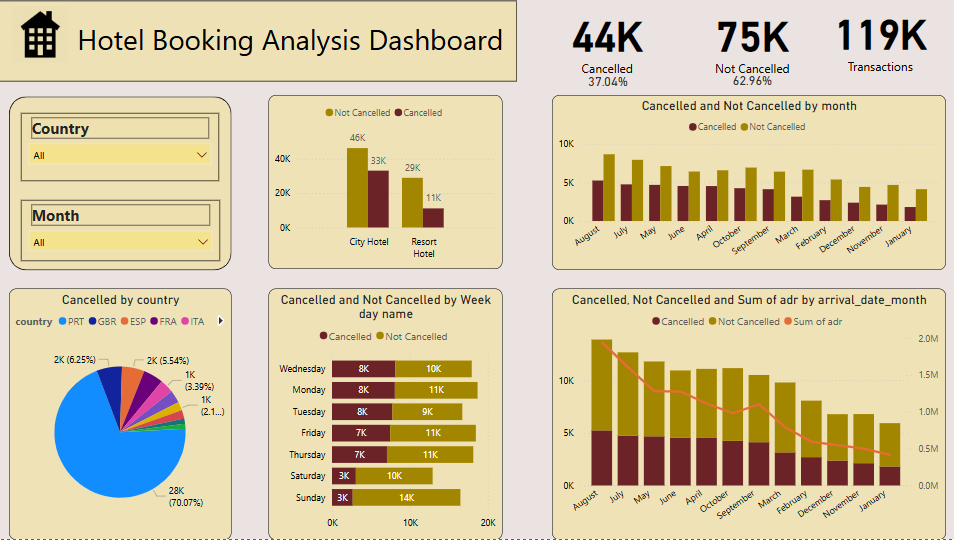

What the dashboard file says about the page in this screenshot:
{"tool":"powerbi","page":{"name":"Page 1","canvas":[1280,720],"ordinal":0},"visuals":[{"type":"shape","box":[0,1.6,693.5,108.1],"z":0},{"type":"textbox","box":[102,22,592,60],"z":1000},{"type":"image","box":[14.5,0,87.1,95.2],"z":2000},{"type":"shape","box":[16.7,130,296.7,231.7],"z":3000},{"type":"slicer","fields":{"Values":["hotel_booking.country"]},"box":[31.8,152.7,264,90.7],"z":4000},{"type":"slicer","fields":{"Values":["hotel_booking.arrival_date_month"]},"box":[31.8,267.2,265.6,81.1],"z":5000},{"type":"card","fields":{"Values":["all measures.Cancelled"]},"box":[740,0,146.7,106.7],"z":6000},{"type":"card","fields":{"Values":["all measures.NotCancelled"]},"box":[910,0,193.3,106.7],"z":7000},{"type":"card","fields":{"Values":["all measures.Transactions"]},"box":[1103.3,0,146.7,101.7],"z":8000},{"type":"card","fields":{"Values":["all measures.% Cancellation"]},"box":[770,81.7,88.3,56.7],"z":9000},{"type":"card","fields":{"Values":["all measures.% not Cancellation"]},"box":[910,76.7,193.3,66.7],"z":10000},{"type":"clusteredColumnChart","fields":{"Category":["hotel_booking.hotel"],"Y":["all measures.Not Cancelled","all measures.Cancelled"]},"box":[362,128,312,232],"z":11000},{"type":"clusteredColumnChart","title":"Cancelled and Not Cancelled by month","fields":{"Category":["hotel_booking.arrival_date_month"],"Y":["all measures.Cancelled","all measures.Not Cancelled"]},"box":[740,128.3,525,233.3],"z":12000},{"type":"pieChart","fields":{"Category":["hotel_booking.country"],"Y":["all measures.Cancelled"]},"box":[15,385,296.7,335],"z":13000},{"type":"barChart","title":"Cancelled and Not Cancelled by Week day name","fields":{"Category":["hotel_booking.Weekday name"],"Y":["all measures.Cancelled","all measures.Not Cancelled"]},"box":[361.7,385,311.7,335],"z":14000},{"type":"lineStackedColumnComboChart","fields":{"Category":["hotel_booking.arrival_date_month"],"Y":["all measures.Cancelled","all measures.Not Cancelled"],"Y2":["Sum(hotel_booking.adr)"]},"box":[740,385,525,335],"z":15000}]}

Visuals, with their boxes in screenshot pixels (x1, y1, x2, y2), scaled from the page's 1280x720 canvas onto the 954x540 screenshot:
shape: x1=0, y1=1, x2=517, y2=82
textbox: x1=76, y1=16, x2=517, y2=62
image: x1=11, y1=0, x2=76, y2=71
shape: x1=12, y1=98, x2=234, y2=271
slicer - hotel_booking.country: x1=24, y1=115, x2=220, y2=183
slicer - hotel_booking.arrival_date_month: x1=24, y1=200, x2=222, y2=261
card - all measures.Cancelled: x1=552, y1=0, x2=661, y2=80
card - all measures.NotCancelled: x1=678, y1=0, x2=822, y2=80
card - all measures.Transactions: x1=822, y1=0, x2=932, y2=76
card - all measures.% Cancellation: x1=574, y1=61, x2=640, y2=104
card - all measures.% not Cancellation: x1=678, y1=58, x2=822, y2=108
clusteredColumnChart - hotel_booking.hotel x all measures.Not Cancelled: x1=270, y1=96, x2=502, y2=270
"Cancelled and Not Cancelled by month" clusteredColumnChart: x1=552, y1=96, x2=943, y2=271
pieChart - hotel_booking.country x all measures.Cancelled: x1=11, y1=289, x2=232, y2=539
"Cancelled and Not Cancelled by Week day name" barChart: x1=270, y1=289, x2=502, y2=539
lineStackedColumnComboChart - hotel_booking.arrival_date_month x all measures.Cancelled: x1=552, y1=289, x2=943, y2=539
